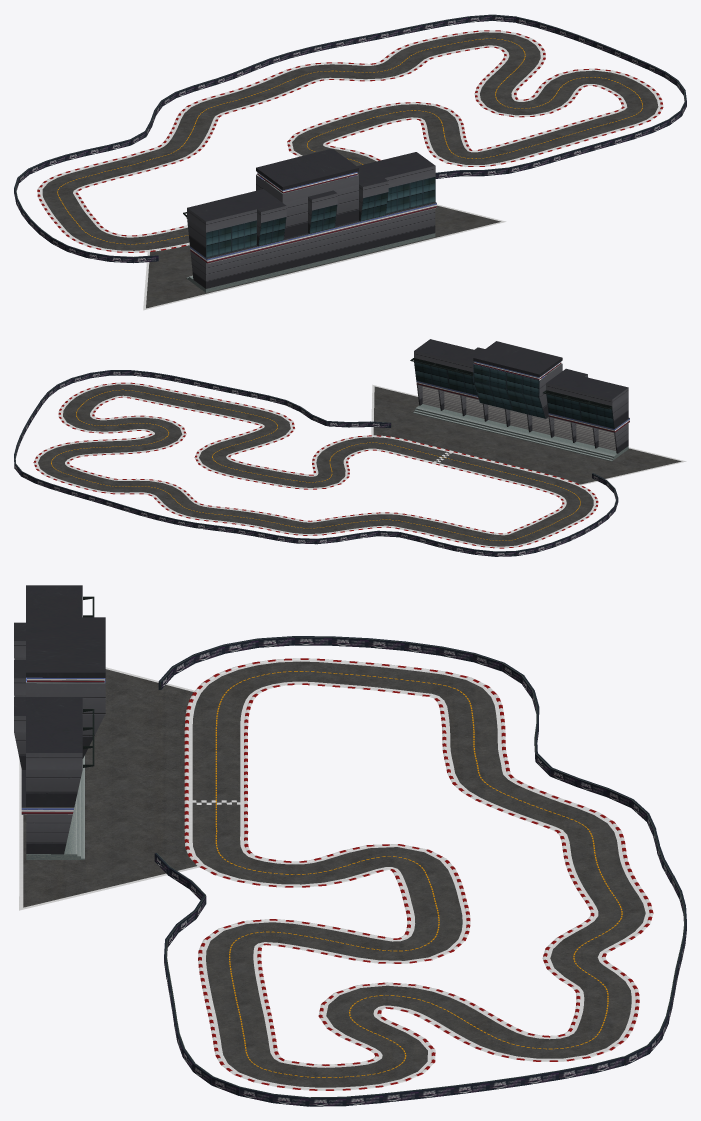
Rendered from July_2020.dae.
3 renders of one model, top to bottom at view 1: azimuth 30°, elevation 25°; view 2: azimuth 150°, elevation 25°; view 3: azimuth 270°, elevation 25°, orthographic. The views are drawn at different scales.
Visible parts, largest first — view 1: track, pit_stop, barrier, track_white_border, track_red_border, pit_base, centerline; view 2: track, pit_stop, pit_base, barrier, track_white_border, track_red_border, centerline; view 3: track, pit_base, pit_stop, track_white_border, barrier, track_red_border, centerline.
Part boxes in pixels (x1,y1,x2,y2): track: (42, 32, 658, 250); pit_stop: (183, 148, 436, 292); barrier: (14, 14, 686, 263); track_white_border: (40, 31, 660, 310); track_red_border: (37, 30, 663, 252); pit_base: (146, 205, 500, 308); centerline: (57, 38, 642, 244); track: (38, 384, 593, 546); pit_stop: (410, 339, 629, 461); pit_base: (373, 386, 681, 484); barrier: (14, 370, 618, 556); track_white_border: (36, 383, 686, 547); track_red_border: (33, 382, 598, 548); centerline: (51, 389, 580, 540); track: (192, 661, 645, 1087); pit_base: (23, 669, 196, 907); pit_stop: (14, 585, 105, 859); track_white_border: (19, 660, 649, 1089); barrier: (154, 636, 686, 1106); track_red_border: (184, 658, 653, 1090); centerline: (215, 671, 622, 1077).
Size of what is drawn, in the model's own units: 21.06 by 12.95 by 2.81.
6 materials, 6 textured.
